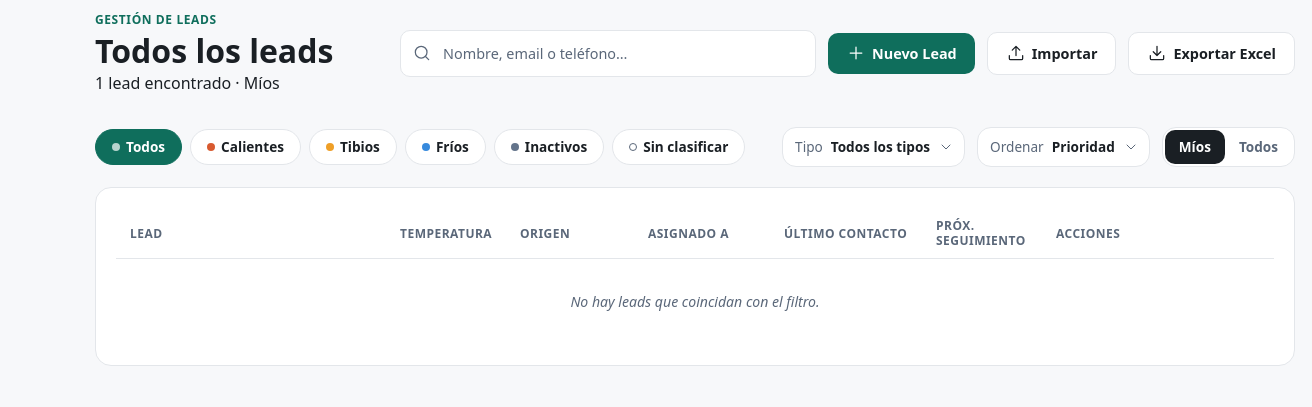
Scenario: filtros del listado de leads › Míos/Todos aparece para el asistente, arranca en Míos y escribe ?mios=0
The width and height of the screenshot is (1312, 407).
Click the 2nd button "Todos" at {"x": 1258, "y": 147}, box [1225,130,1292,164]
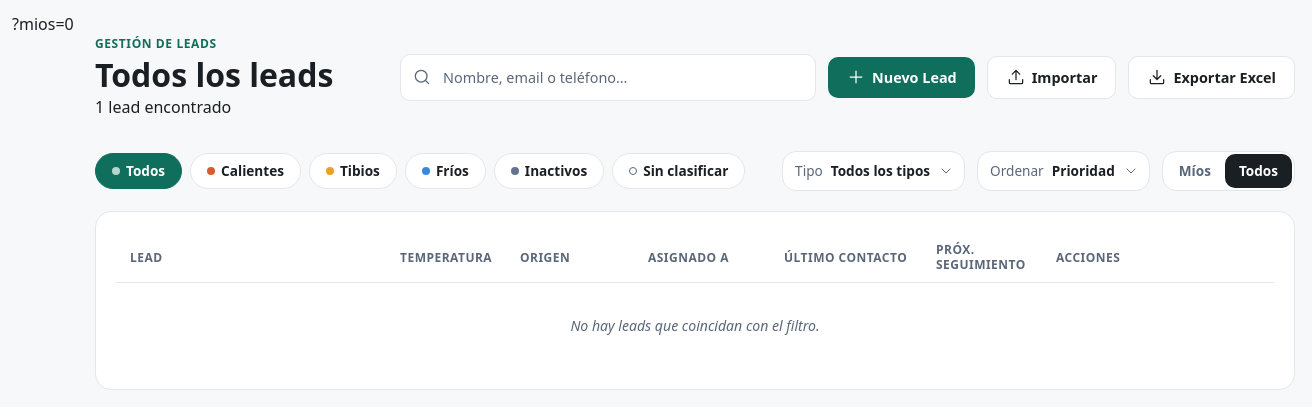
Expected: the text with test id "search" reads "?mios=0", [12,13,74,35]
